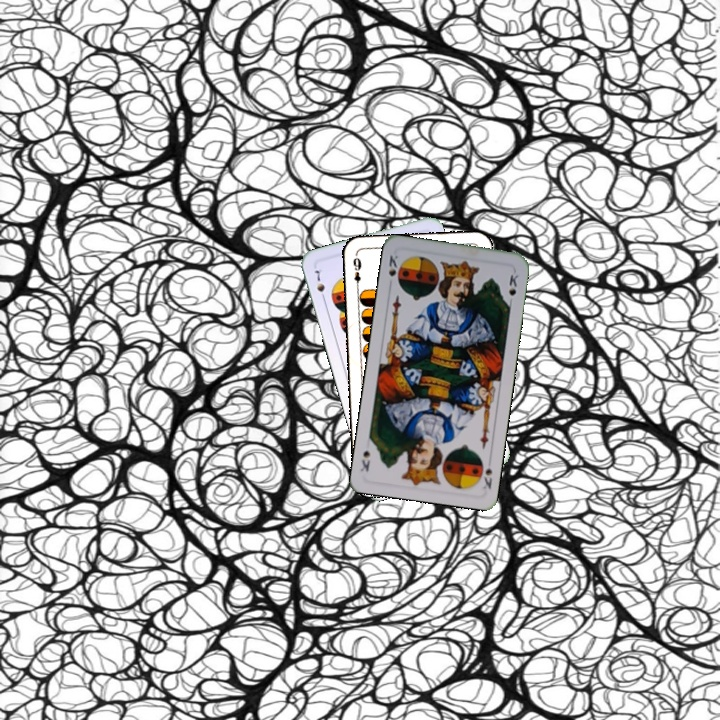E9: (349, 253, 364, 292)
S7: (311, 266, 328, 304)
SK: (475, 453, 495, 492), (384, 251, 401, 279)
